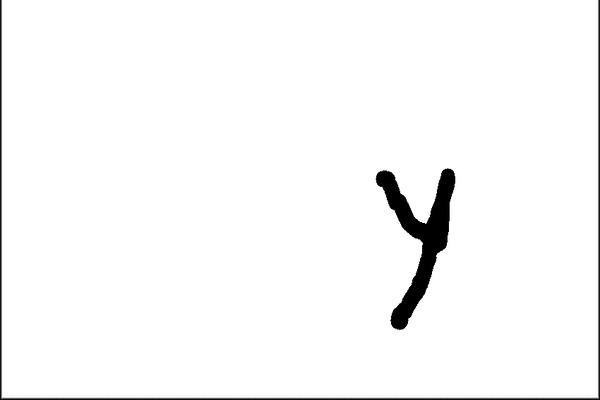Y: (361, 156, 483, 334)
